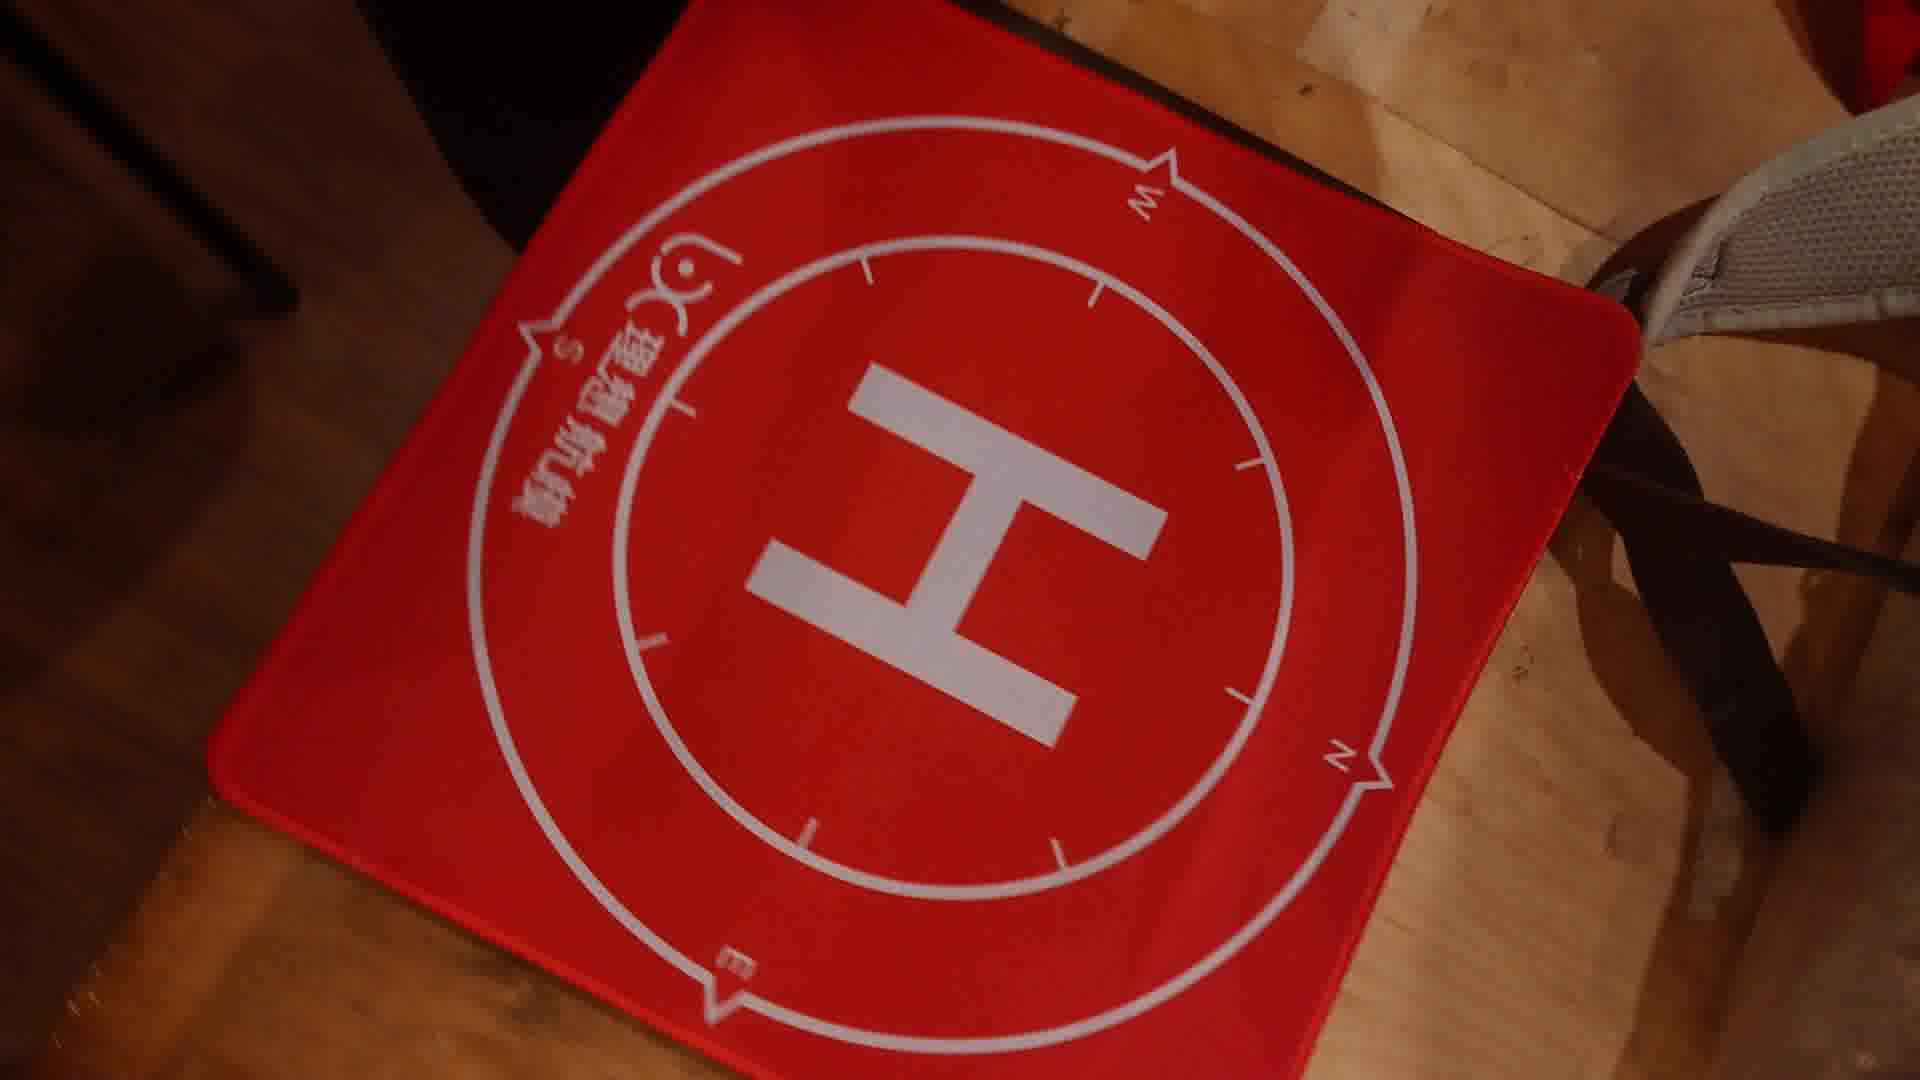H: (742, 360, 1171, 754)
